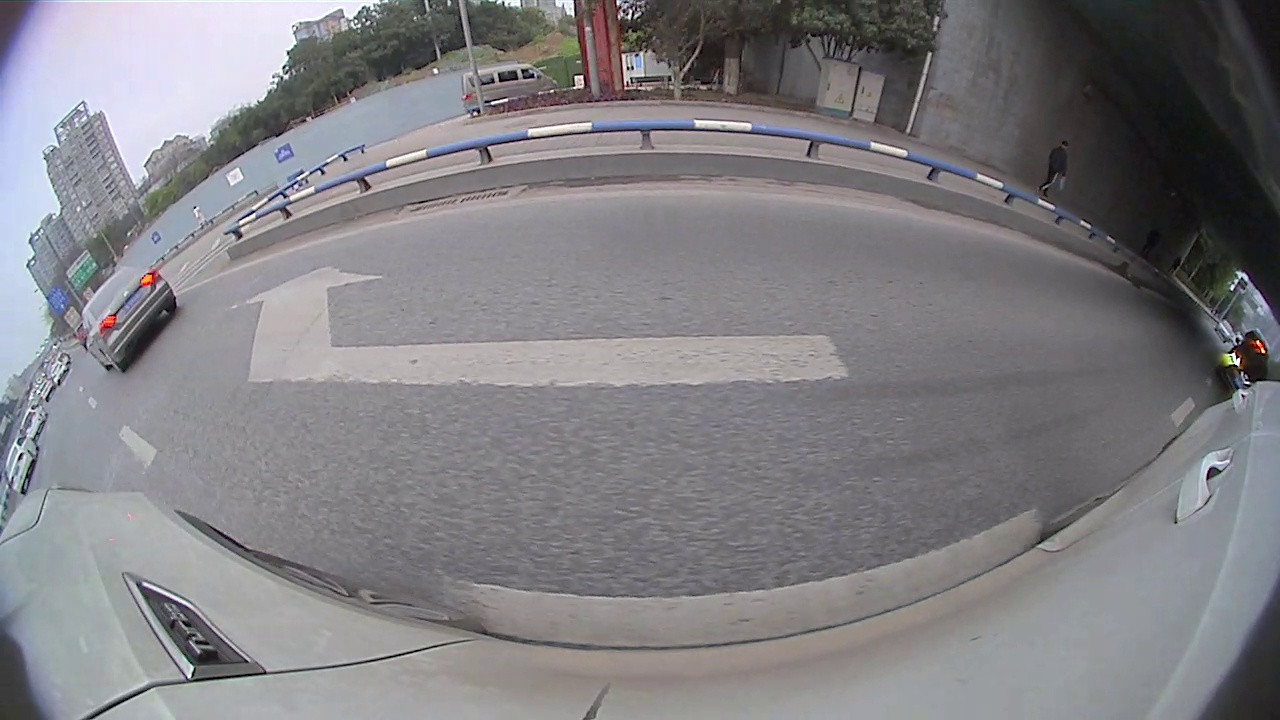car: (78, 264, 179, 374), (460, 62, 561, 115), (1215, 336, 1271, 397), (3, 435, 41, 496), (19, 404, 47, 442)
front: (89, 351, 109, 373)
person: (1049, 139, 1071, 198)
rear: (99, 347, 129, 376), (161, 289, 181, 317)
